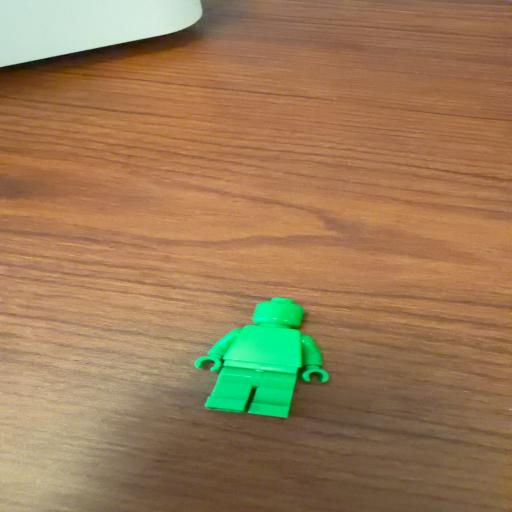UnoQ-minifig-detector: (195, 298, 329, 417), (222, 325, 317, 375)
